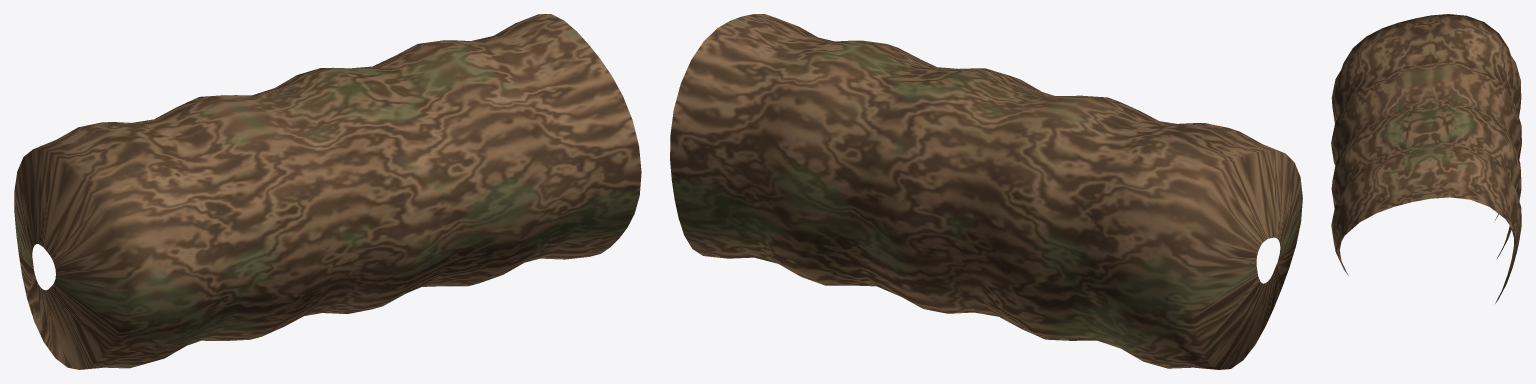
File: turtle-mt-log.glb
3 renders of one model, left to right at view 1: azimuth 30°, elevation 25°; view 2: azimuth 150°, elevation 25°; view 3: azimuth 270°, elevation 25°, orthographic. The views are drawn at different scales.
Visible parts, largest first — view 1: turtle-prop-log; view 2: turtle-prop-log; view 3: turtle-prop-log.
Boxes of the visible parts, x1,y1,x2,y2 form: turtle-prop-log: (14,14,641,369); turtle-prop-log: (670,14,1302,369); turtle-prop-log: (1331,14,1521,303).
Size of the model in its own units: 0.1 by 0.0402 by 0.0403.
Materials: 1 (1 with a texture image).
